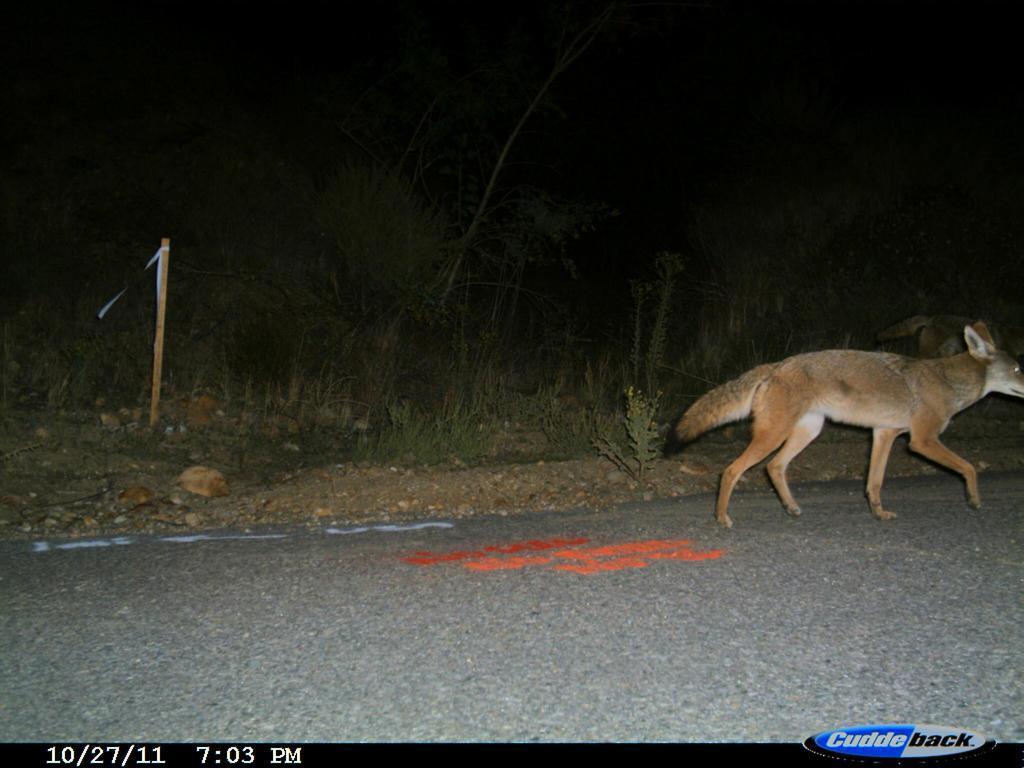coyote: (664, 328, 1023, 566)
